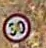limite 30: (1, 11, 31, 43)
